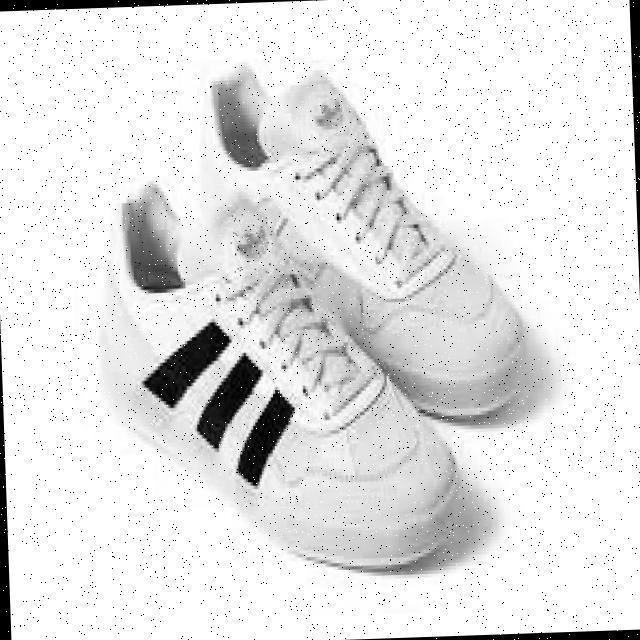Adidas: (230, 212, 274, 276), (309, 90, 351, 154)
